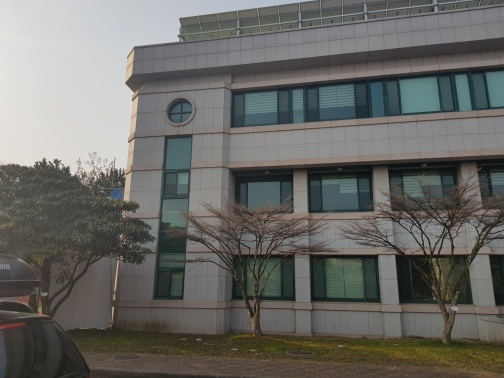Information Telecommunication Center: (115, 13, 501, 339), (126, 38, 499, 248), (127, 50, 228, 333)
